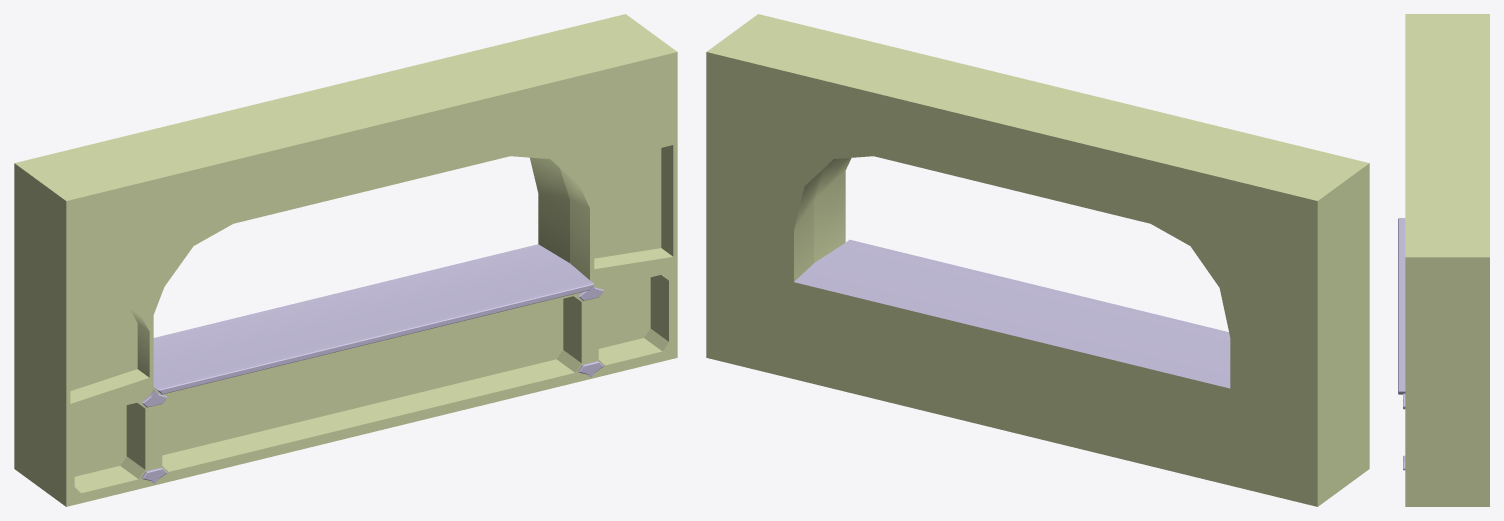
File: counter.fbx
The picture shows the model from 3 angles, left to right: view 1: azimuth 30°, elevation 25°; view 2: azimuth 150°, elevation 25°; view 3: azimuth 270°, elevation 25°; orthographic projection. The views are drawn at different scales.
Parts seen in each view (by area): view 1: Cube.024; view 2: Cube.024; view 3: Cube.024.
Boxes of the visible parts, x1,y1,x2,y2 form: Cube.024: (14, 14, 677, 506); Cube.024: (706, 14, 1369, 506); Cube.024: (1398, 14, 1489, 506).
Size of the model in its own units: 1095 by 524 by 175.
